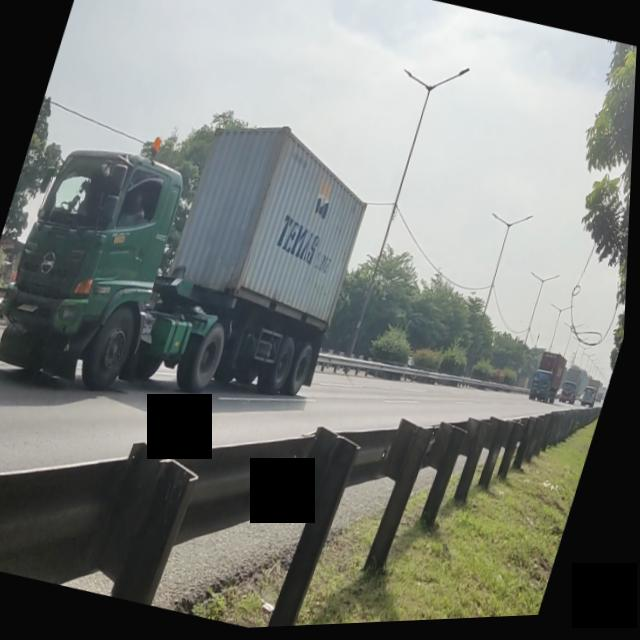Golongan IV: (0, 104, 379, 448)
